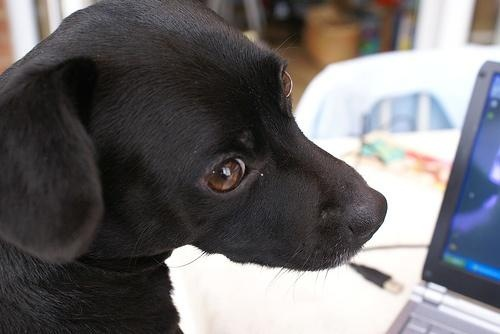dog: (1, 4, 394, 334)
